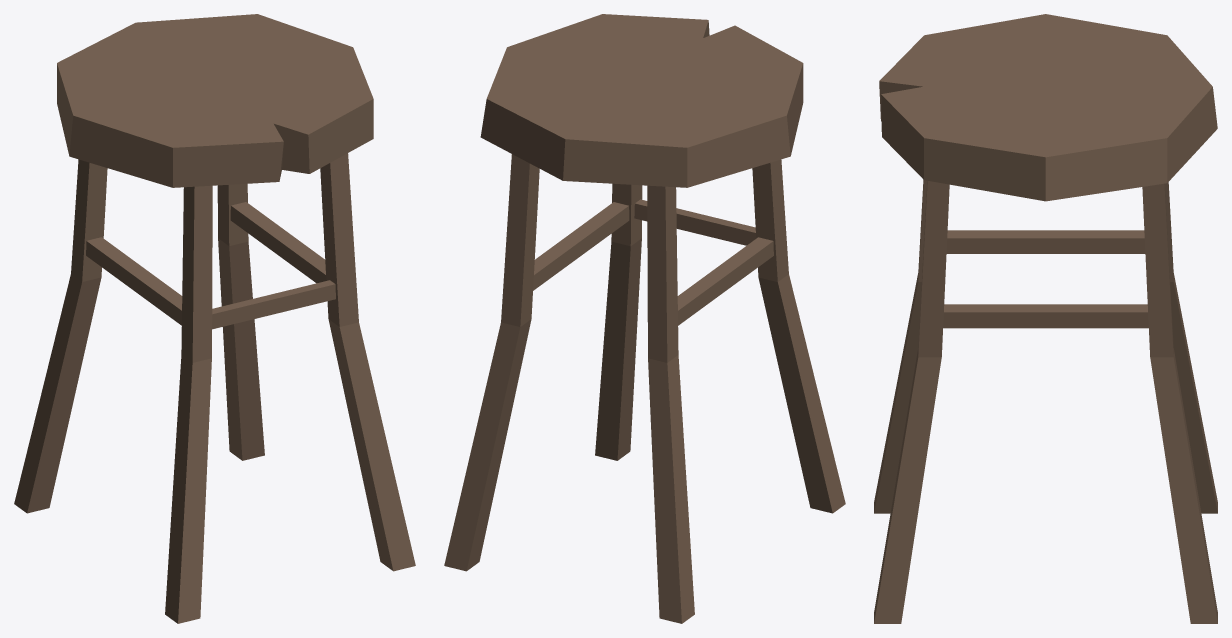
File: Chair_1.fbx
3 renders of one model, left to right at view 1: azimuth 30°, elevation 25°; view 2: azimuth 150°, elevation 25°; view 3: azimuth 270°, elevation 25°, orthographic. The views are drawn at different scales.
Parts seen in each view (by area): view 1: Chair_1; view 2: Chair_1; view 3: Chair_1.
Boxes of the visible parts, x1,y1,x2,y2 form: Chair_1: (14, 14, 415, 623); Chair_1: (444, 14, 845, 623); Chair_1: (874, 14, 1217, 623).
Bounding box in the file's own units: 52.96 × 52.22 × 79.83.
